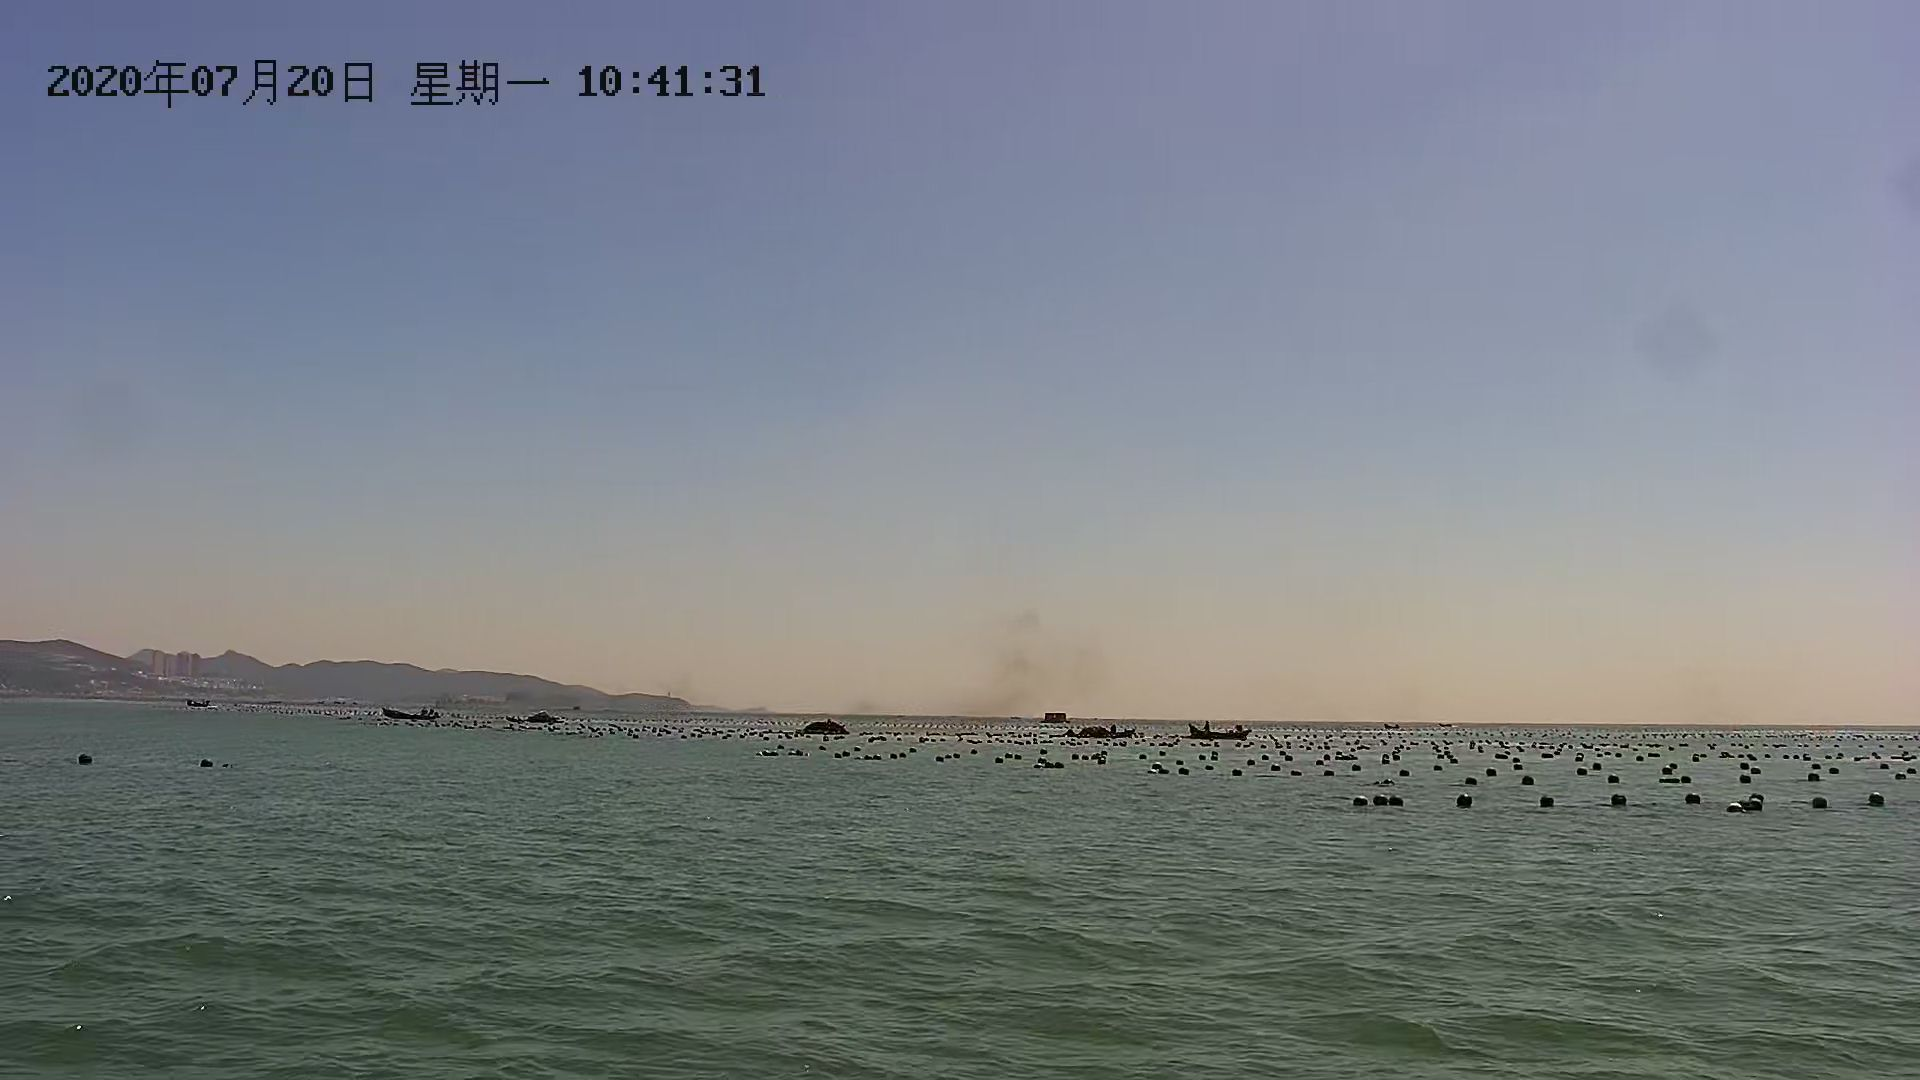ball: (1385, 789, 1412, 812), (1867, 789, 1894, 812), (1809, 793, 1833, 816), (1371, 789, 1391, 816), (1453, 789, 1474, 814), (73, 750, 99, 770), (1349, 793, 1371, 814), (1683, 789, 1705, 808), (1539, 791, 1559, 812), (1610, 791, 1630, 810)
boat: (1182, 721, 1259, 744), (382, 703, 444, 725)
platform: (1042, 707, 1072, 729)
rubbish: (800, 720, 852, 740), (527, 708, 568, 727), (1077, 727, 1120, 742)
